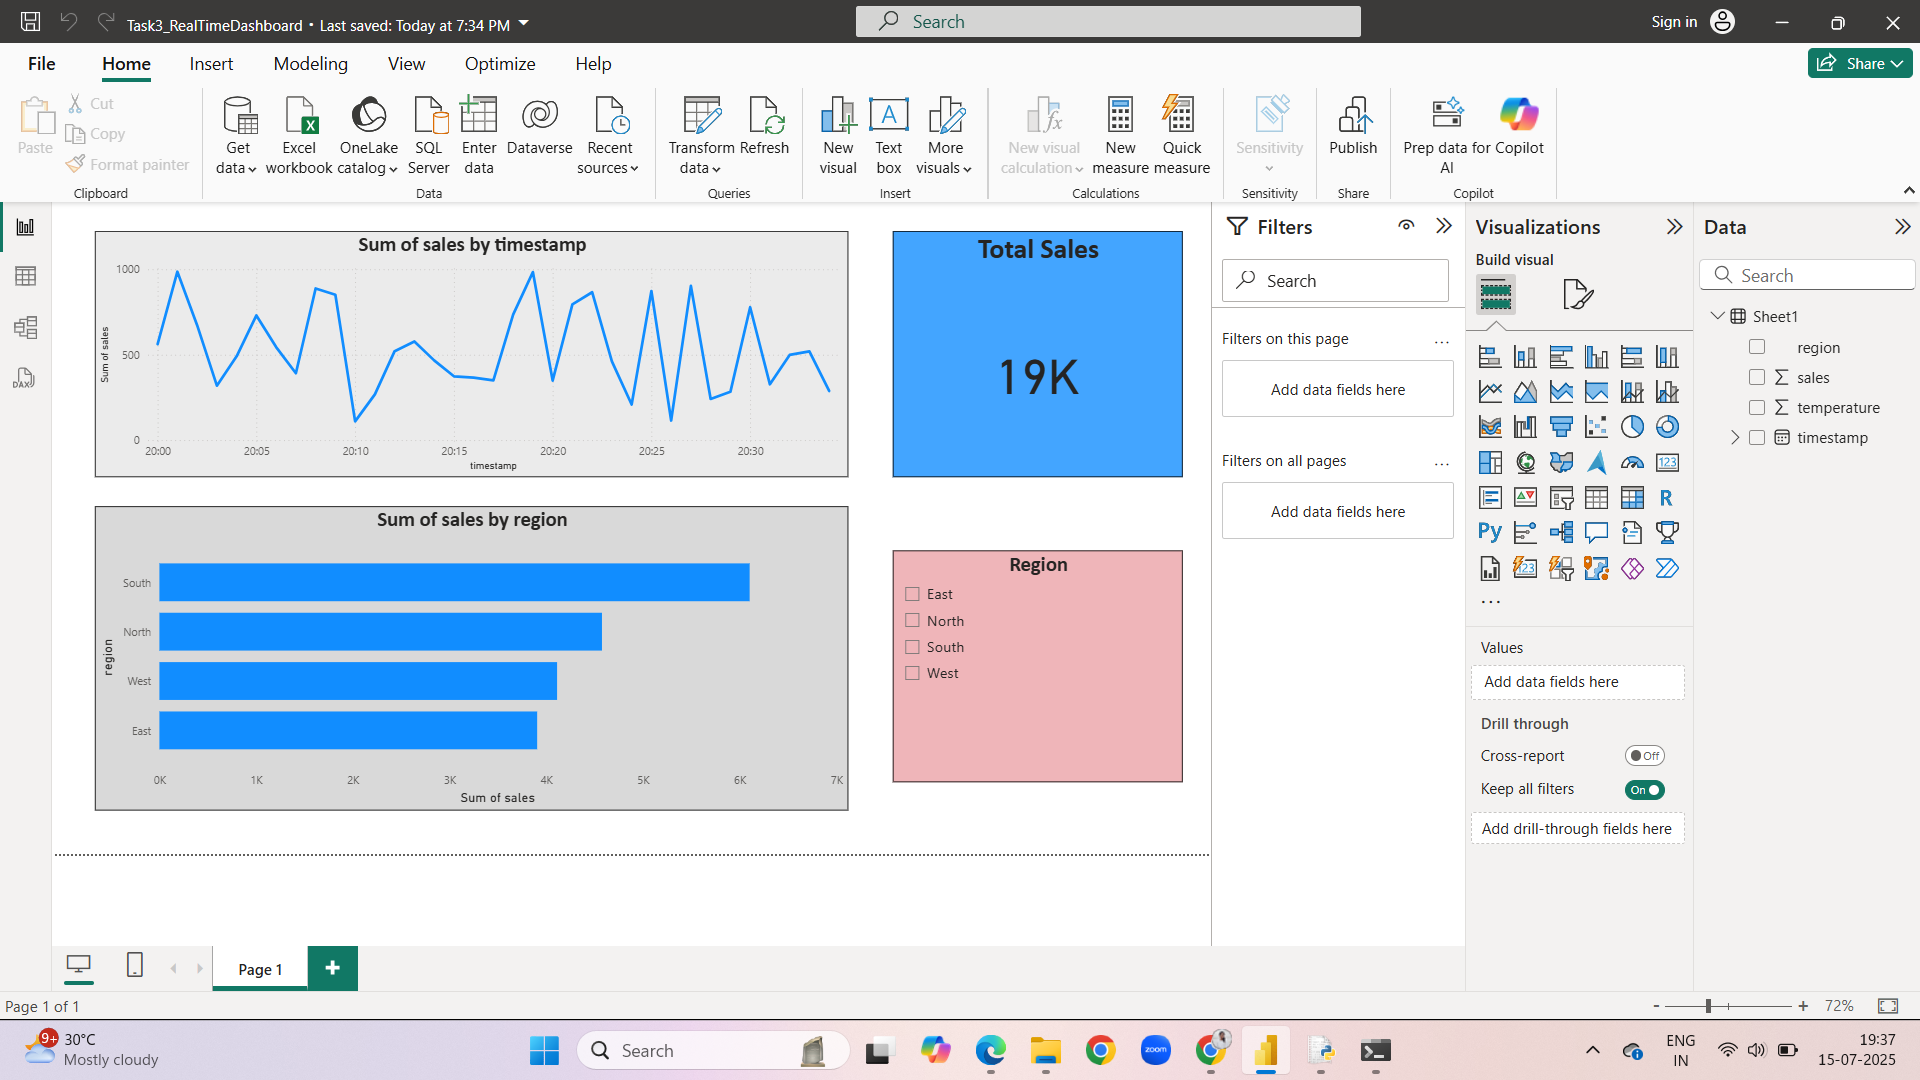

What the dashboard file says about the page in this screenshot:
{"tool":"powerbi","page":{"name":"Page 1","canvas":[1280,720],"ordinal":0},"visuals":[{"type":"card","title":"Total Sales","fields":{"Values":["Sum(Sheet1.sales)"]},"box":[928,32,320,272],"z":0},{"type":"lineChart","fields":{"Category":["Sheet1.timestamp"],"Y":["Sum(Sheet1.sales)"]},"box":[48,32,832,272],"z":1000},{"type":"clusteredBarChart","fields":{"Category":["Sheet1.region"],"Y":["Sum(Sheet1.sales)"]},"box":[48,336,832,336],"z":2000},{"type":"slicer","title":"Region","fields":{"Values":["Sheet1.region"]},"box":[928,336,320,336],"z":3000}]}

Visuals, with their boxes on the page's 1280x720 design canvas (x1, y1, x2, y2). These are canvas units, not pixel positions in the 1920x1080 screenshot, which may show the page scaled, cropped or inside an application window:
"Total Sales" card: <region>928, 32, 1248, 304</region>
lineChart - Sheet1.timestamp x Sum(Sheet1.sales): <region>48, 32, 880, 304</region>
clusteredBarChart - Sheet1.region x Sum(Sheet1.sales): <region>48, 336, 880, 672</region>
"Region" slicer: <region>928, 336, 1248, 672</region>
